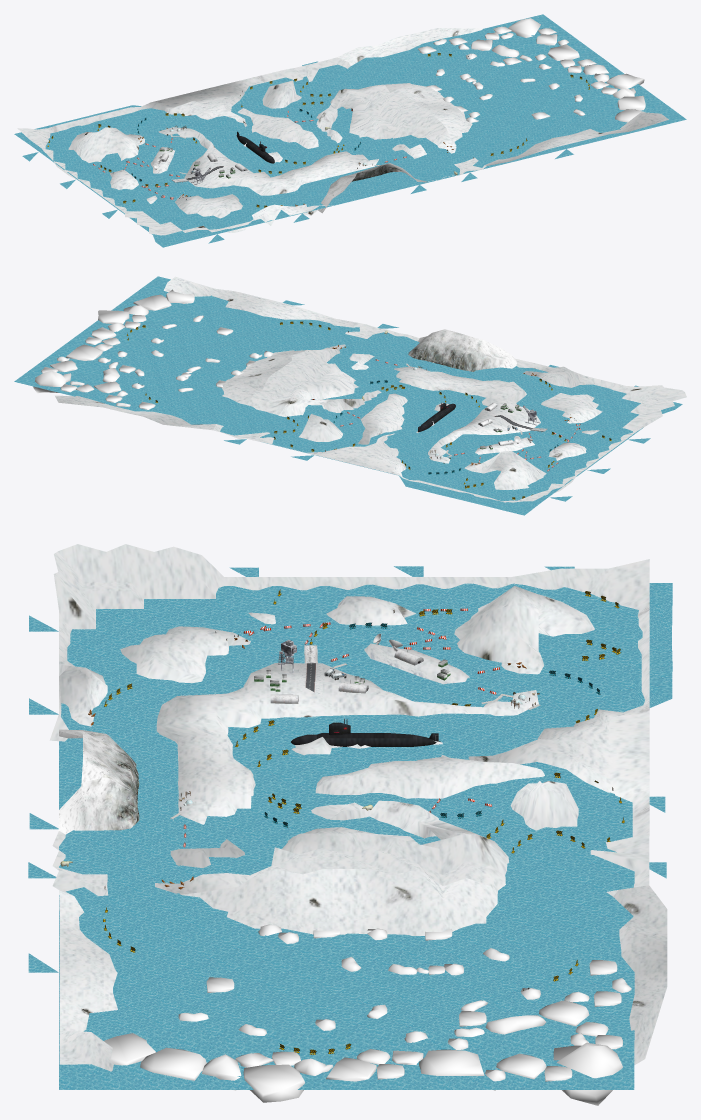
Rendered from Arctic.glb.
3 renders of one model, top to bottom at view 1: azimuth 30°, elevation 25°; view 2: azimuth 150°, elevation 25°; view 3: azimuth 270°, elevation 25°, orthographic. The views are drawn at different scales.
Visible parts, largest first — view 1: Untitled* (×10), Sea** (×11), Sea* (×7), MAP 2, plaque de fond*** (×3), bout, bout* (×3), plaque de fond* (×3), bout**, Sea*** (×3), grotte, Untitled** (+8 smaller); view 2: Untitled* (×10), Sea** (×10), Sea* (×7), MAP 2, plaque de fond*** (×3), bout* (×3), bout, plaque de fond* (×3), bout**, Sea*** (×3), grotte, Détail4 (+7 smaller); view 3: Untitled* (×10), Sea** (×10), Sea* (×7), MAP 2, plaque de fond*** (×3), bout* (×3), plaque de fond* (×3), bout**, bout, plaque de fond**, ice1.obj 1 (×7), grotte (+7 smaller).
Part boxes in pixels (x1,y1,x2,y2): Untitled* (×10): [349, 14, 648, 168]; Sea** (×11): [60, 61, 373, 225]; Sea* (×7): [14, 113, 486, 247]; MAP 2: [337, 28, 668, 165]; plaque de fond*** (×3): [116, 127, 364, 195]; bout: [316, 85, 441, 143]; bout* (×3): [236, 57, 486, 181]; plaque de fond* (×3): [77, 100, 280, 232]; bout**: [161, 77, 284, 129]; Sea*** (×3): [198, 108, 351, 159]; grotte: [17, 120, 129, 179]; Untitled**: [589, 92, 686, 134]; Untitled* (×10): [14, 296, 353, 424]; Sea** (×10): [220, 365, 650, 494]; Sea* (×7): [327, 324, 682, 515]; MAP 2: [55, 276, 357, 430]; plaque de fond*** (×3): [403, 368, 540, 473]; bout* (×3): [213, 323, 484, 450]; bout: [256, 350, 403, 412]; plaque de fond* (×3): [515, 358, 636, 466]; bout**: [298, 415, 404, 472]; Sea*** (×3): [327, 391, 457, 454]; grotte: [471, 451, 588, 502]; Détail4: [408, 329, 482, 368]; Untitled* (×10): [28, 895, 634, 1089]; Sea** (×10): [29, 566, 672, 894]; Sea* (×7): [28, 566, 672, 894]; MAP 2: [59, 869, 667, 1071]; plaque de fond*** (×3): [156, 604, 543, 803]; bout* (×3): [52, 716, 649, 896]; plaque de fond* (×3): [49, 577, 416, 741]; bout**: [442, 709, 649, 812]; bout: [251, 800, 469, 885]; plaque de fond**: [53, 544, 224, 623]; ice1.obj 1 (×7): [104, 1000, 589, 1102]; grotte: [416, 559, 649, 650].
Bounding box in the file's own units: 547 × 36.72 × 280.
28 materials, 27 textured.
